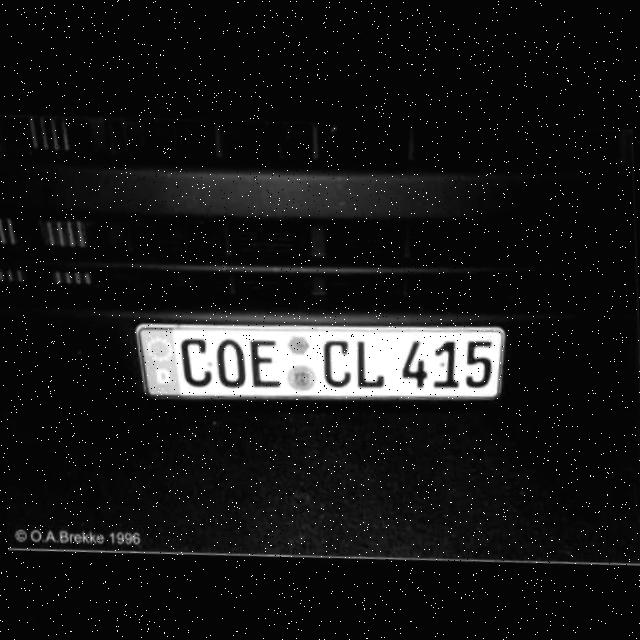license-plates: (137, 324, 506, 399)
